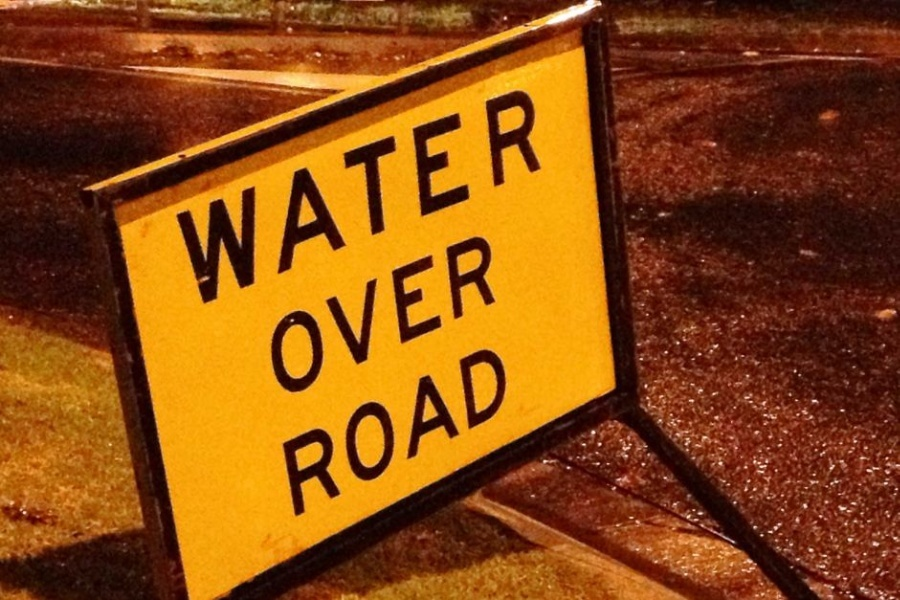text: (529, 79, 545, 306), (177, 79, 192, 306), (193, 79, 208, 306), (209, 79, 224, 306), (225, 79, 240, 306), (241, 79, 256, 306), (257, 79, 272, 306), (273, 79, 288, 306), (289, 79, 304, 306), (305, 79, 320, 306), (321, 79, 336, 306), (337, 79, 352, 306), (353, 79, 368, 306), (369, 79, 384, 306), (385, 79, 400, 306), (401, 79, 416, 306), (417, 79, 432, 306), (433, 79, 448, 306), (449, 79, 464, 306), (465, 79, 480, 306), (481, 79, 496, 306), (497, 79, 512, 306), (513, 79, 528, 306), (289, 341, 304, 525), (305, 341, 320, 525), (321, 341, 336, 525), (337, 341, 352, 525), (353, 341, 368, 525), (369, 341, 384, 525), (385, 341, 400, 525), (401, 341, 416, 525), (417, 341, 432, 525), (433, 341, 448, 525), (449, 341, 464, 525), (465, 341, 480, 525), (481, 341, 496, 525), (497, 341, 512, 525), (257, 227, 272, 401), (273, 227, 288, 401), (289, 227, 304, 401), (305, 227, 320, 401), (321, 227, 336, 401), (337, 227, 352, 401), (353, 227, 368, 401), (369, 227, 384, 401), (385, 227, 400, 401), (401, 227, 416, 401), (417, 227, 432, 401), (433, 227, 448, 401), (449, 227, 464, 401), (465, 227, 480, 401), (481, 227, 496, 401), (497, 227, 512, 401), (278, 341, 288, 525), (513, 227, 517, 401), (173, 79, 176, 306), (513, 341, 514, 525)
